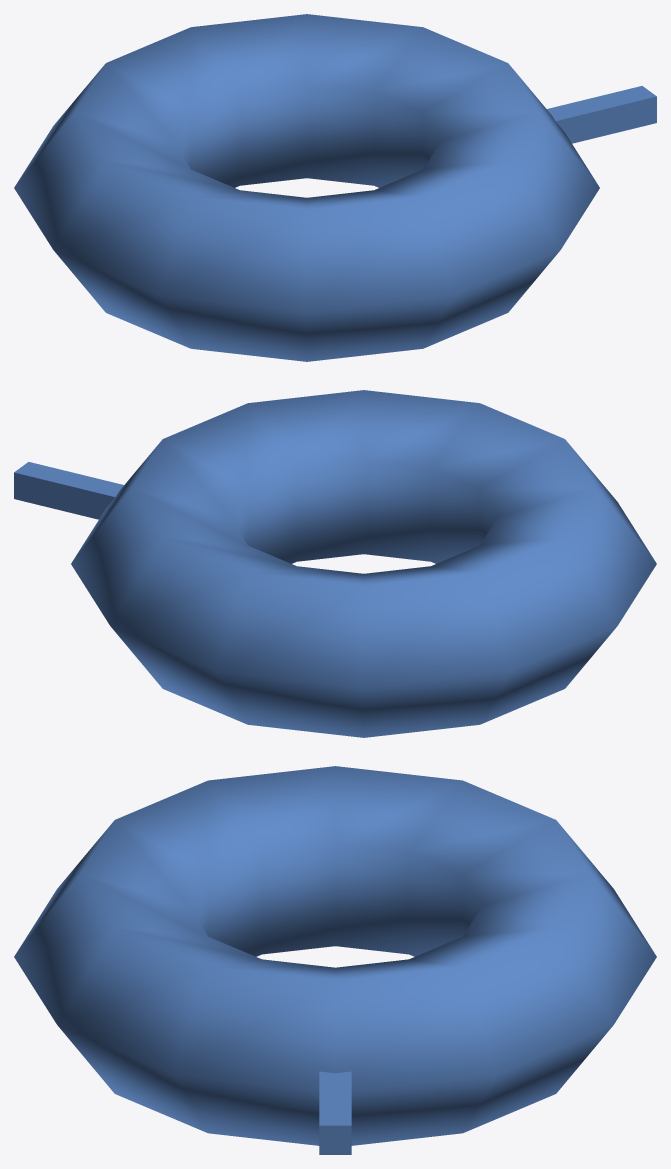
The model's file is cable_roll.glb.
The picture shows the model from 3 angles, top to bottom: view 1: azimuth 30°, elevation 25°; view 2: azimuth 150°, elevation 25°; view 3: azimuth 270°, elevation 25°; orthographic projection. The views are drawn at different scales.
Parts seen in each view (by area): view 1: cable_roll; view 2: cable_roll; view 3: cable_roll.
Part boxes in pixels (x1,y1,x2,y2): cable_roll: (14, 14, 656, 361); cable_roll: (14, 390, 656, 737); cable_roll: (14, 766, 656, 1154).
Bounding box in the file's own units: 0.235 × 0.0571 × 0.2.
Materials: 1 (1 with a texture image).
